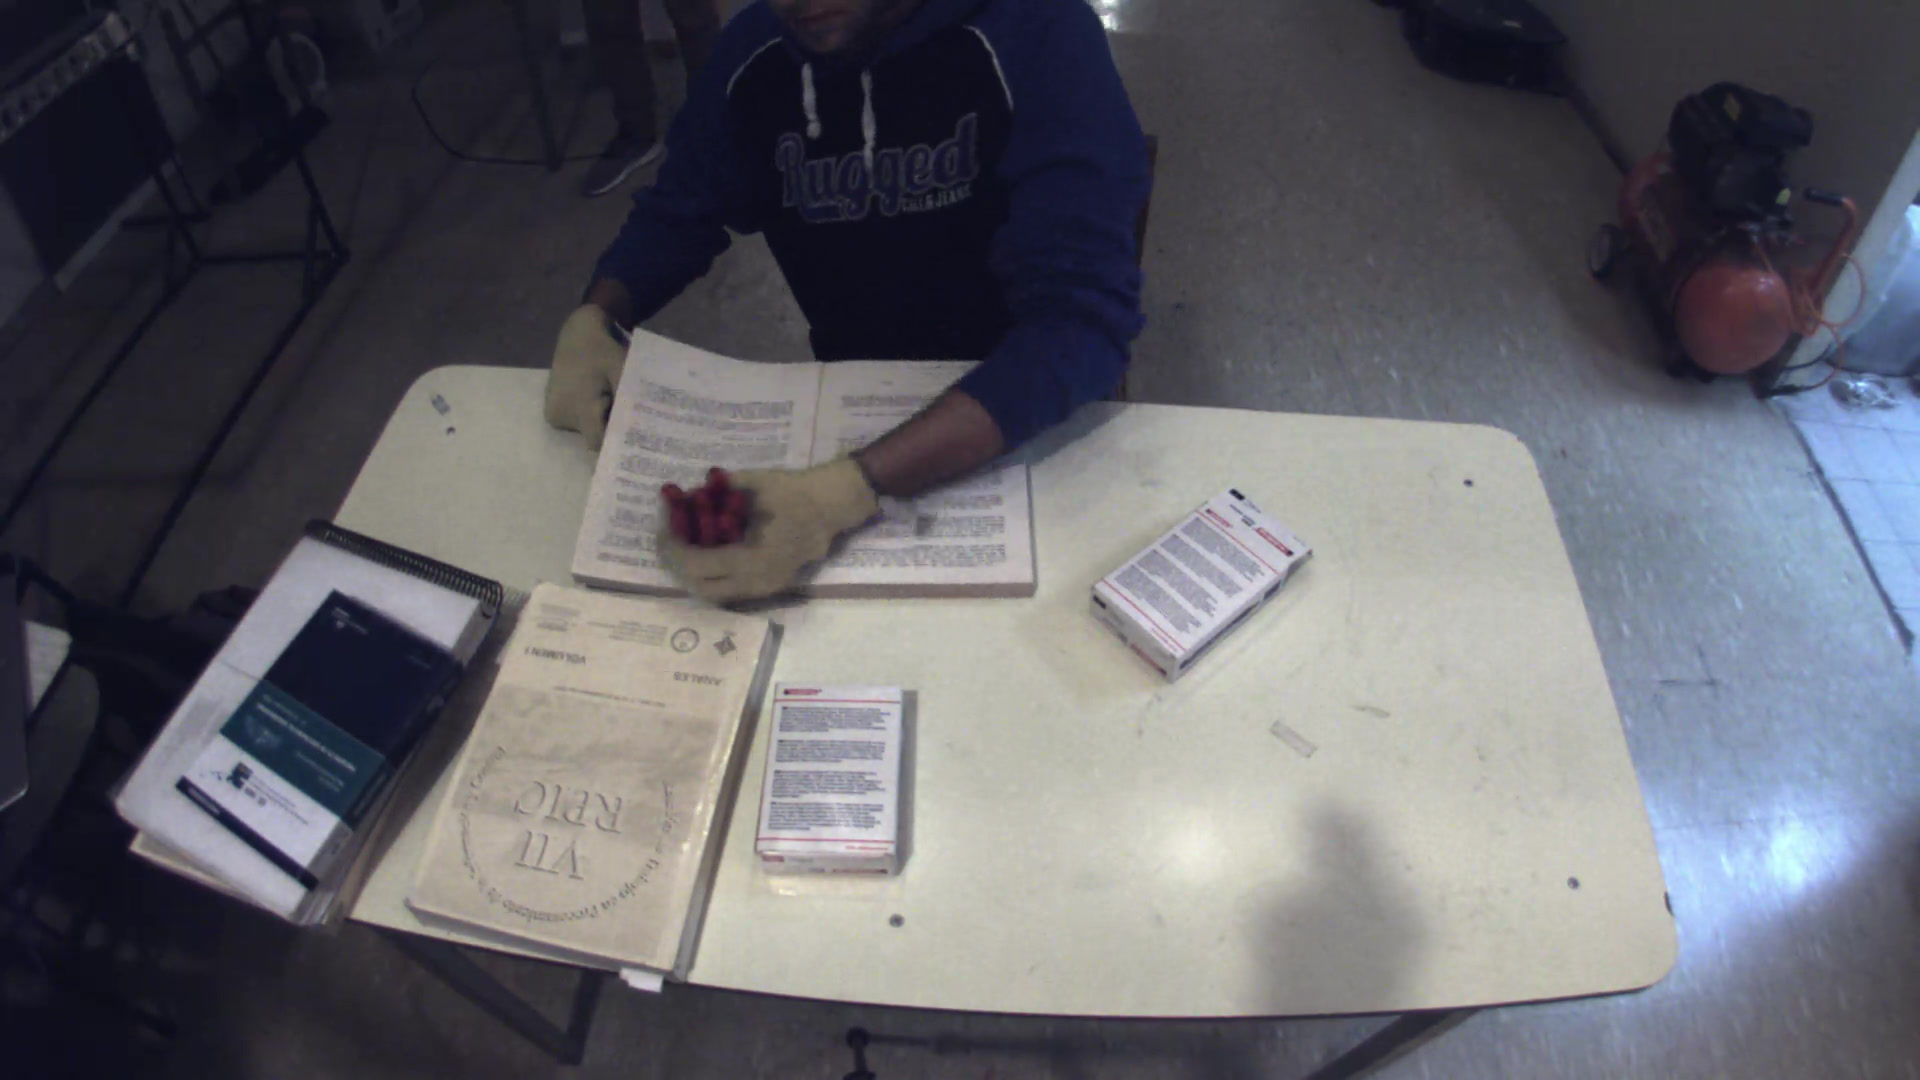hand: (633, 450, 887, 611), (524, 299, 625, 448)
